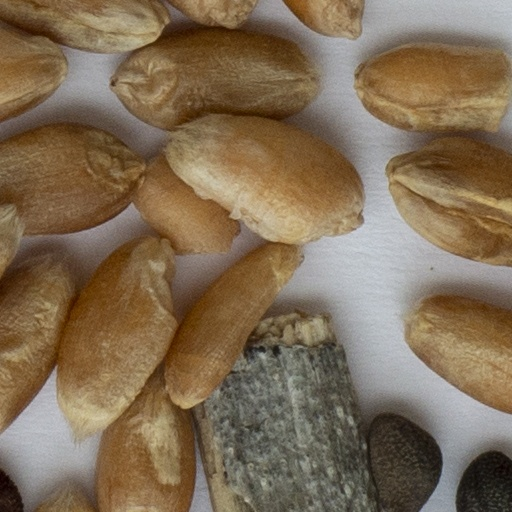Agrostemma-poly: (0, 469, 469, 511)
Peel-poly: (195, 305, 305, 511)
